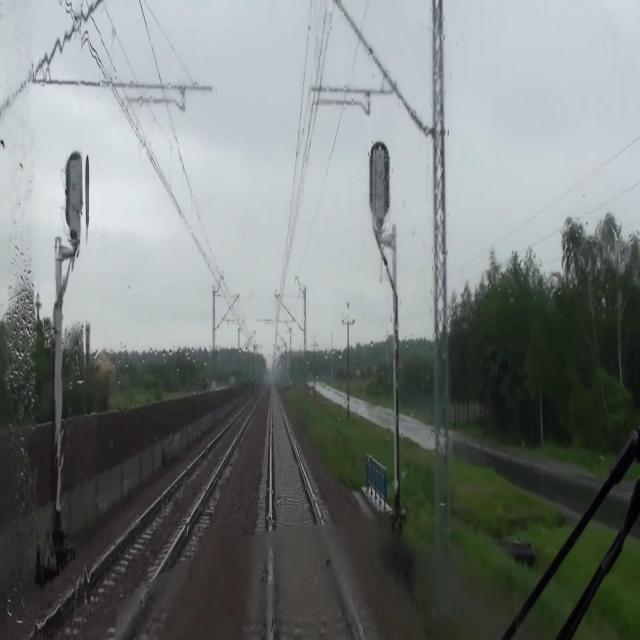rail-track: (33, 396, 257, 639), (273, 391, 360, 639)
